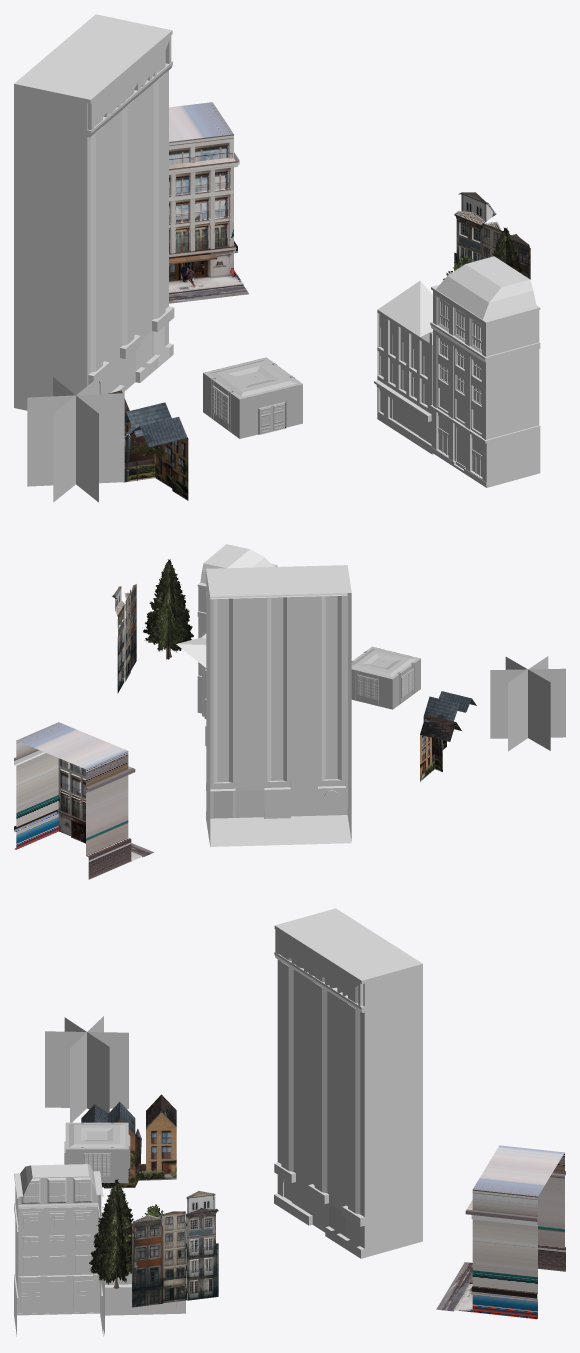
File: room.fbx
3 renders of one model, top to bottom at view 1: azimuth 30°, elevation 25°; view 2: azimuth 150°, elevation 25°; view 3: azimuth 270°, elevation 25°, orthographic. The views are drawn at different scales.
Parts seen in each view (by area): view 1: house_03, house_01, house_04, tree05, house_02, house7, house_05, walls, decke, door.001, tree04; view 2: house_03, house_04, tree05, house7, tree04, house_01, house_05, walls, decke, tree03, house_02; view 3: house_03, house_04, house_01, house_05, tree05, house7, tree04, decke, house_02, walls.
Part boxes in pixels (<box>): house_03: <box>14,14,174,410</box>; house_01: <box>430,256,540,487</box>; house_04: <box>169,102,248,303</box>; tree05: <box>27,377,124,502</box>; house_02: <box>374,280,433,454</box>; house7: <box>108,390,188,500</box>; house_05: <box>454,192,530,279</box>; walls: <box>203,373,302,438</box>; decke: <box>203,357,302,399</box>; door.001: <box>259,400,286,434</box>; tree04: <box>492,227,525,275</box>; house_03: <box>206,565,351,846</box>; house_04: <box>14,722,153,879</box>; tree05: <box>490,656,565,751</box>; house7: <box>420,691,476,781</box>; tree04: <box>143,559,193,657</box>; house_01: <box>197,544,277,713</box>; house_05: <box>112,584,136,693</box>; walls: <box>351,658,420,709</box>; decke: <box>351,647,420,679</box>; tree03: <box>150,606,182,659</box>; house_02: <box>176,632,206,745</box>; house_03: <box>274,908,422,1258</box>; house_04: <box>436,1145,565,1319</box>; house_01: <box>14,1164,103,1336</box>; house_05: <box>132,1190,218,1307</box>; tree05: <box>45,1016,128,1122</box>; house7: <box>81,1094,176,1188</box>; tree04: <box>89,1179,133,1288</box>; decke: <box>65,1122,128,1149</box>; house_02: <box>100,1212,185,1334</box>; walls: <box>64,1134,129,1182</box>.
Size of the model in its own units: 5014 by 3032 by 5228.
